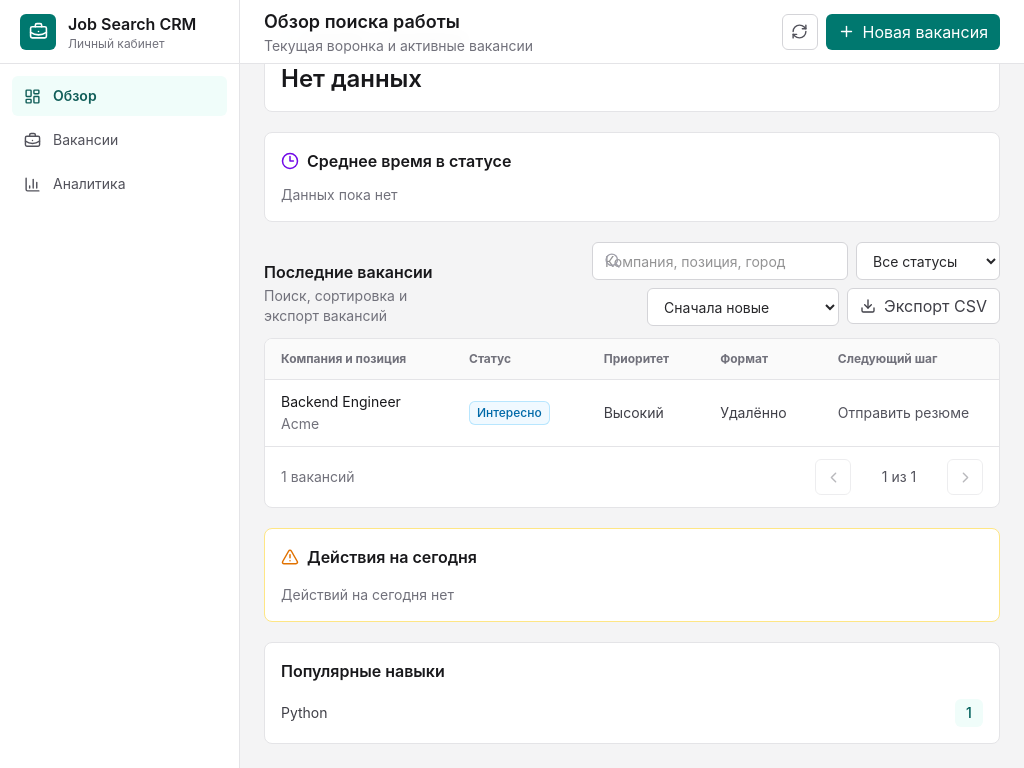
App › открывает историю отдельно от карточки вакансии
(page scrolled)
Click the button with aria-label "Открыть карточку Backend Engineer в Acme": (341,402) left=281, top=392, right=401, bottom=412
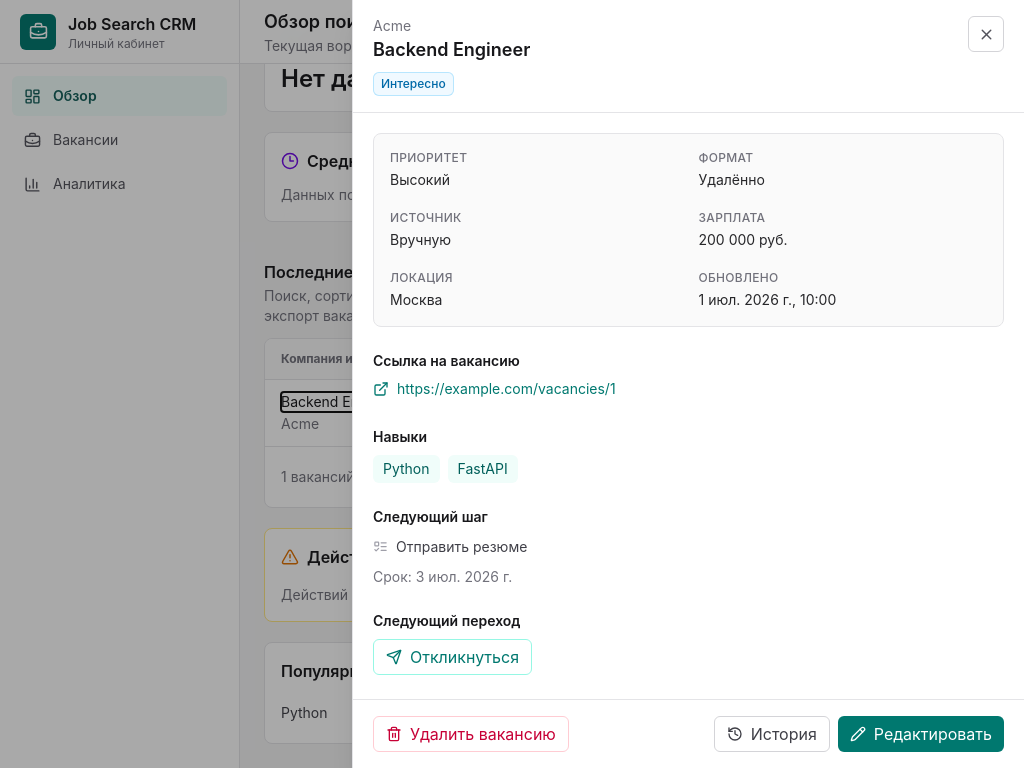
Click the button "История": (772,734) left=714, top=716, right=830, bottom=752
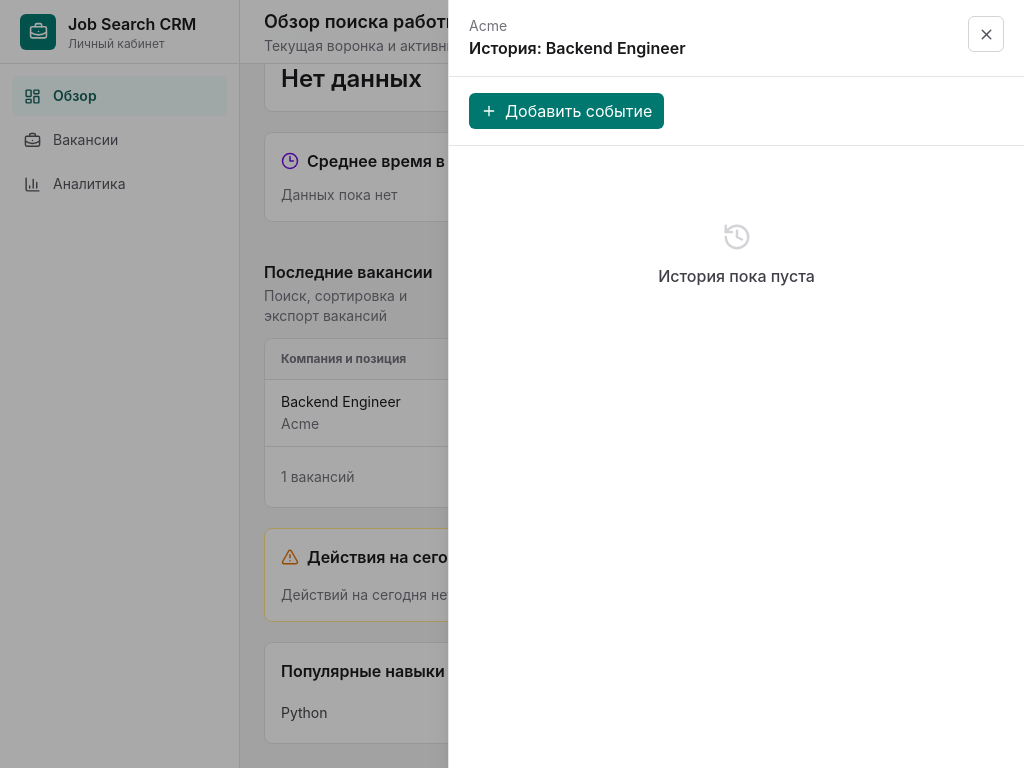
Check: the dialog "История: Backend Engineer" is shown, box left=448, top=0, right=1023, bottom=767
